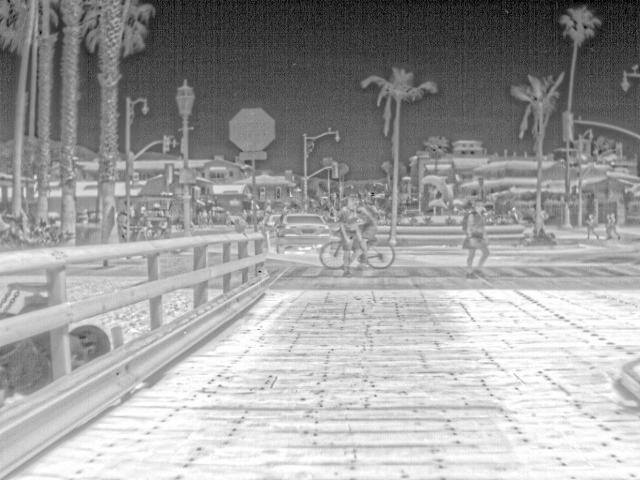car: (274, 209, 333, 254), (263, 211, 282, 248)
person: (337, 202, 365, 276), (464, 203, 491, 279), (360, 206, 381, 240), (585, 211, 604, 242), (607, 211, 624, 241), (239, 206, 251, 224)
